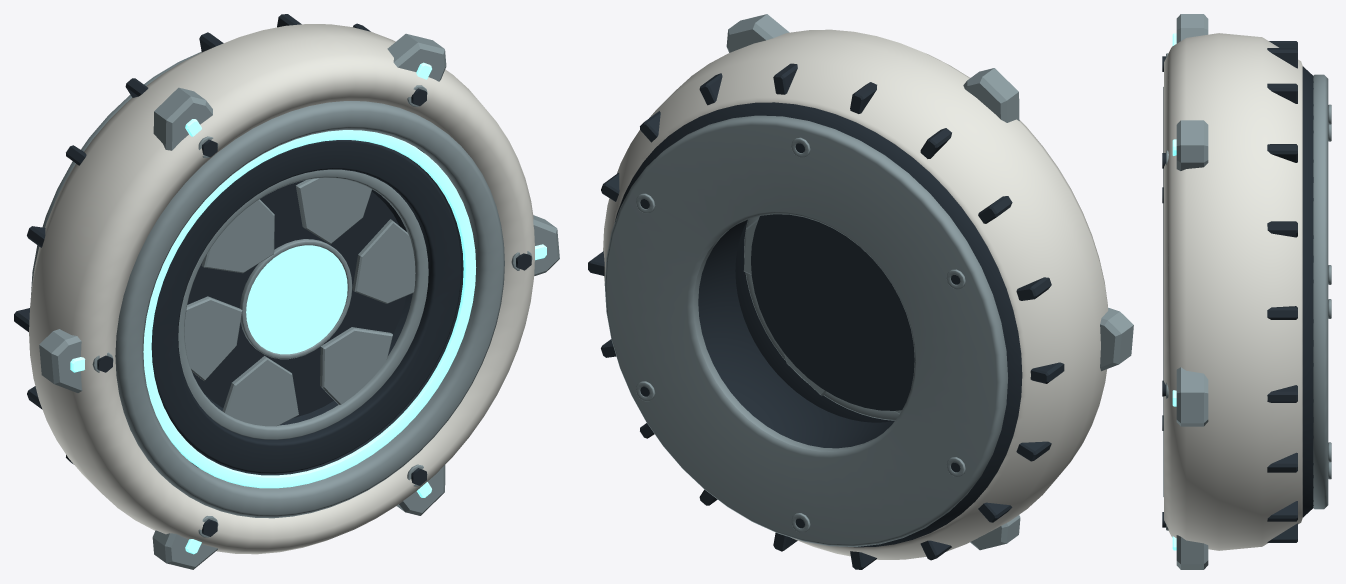
Rendered from hard-light-projector.glb.
3 views of the same model, side by side, from view 1: azimuth 30°, elevation 25°; view 2: azimuth 150°, elevation 25°; view 3: azimuth 270°, elevation 25° (orthographic). The views are drawn at different scales.
Parts seen in each view (by area): view 1: Hard-light projector • six-jaw collimator / alloy, Hard-light projector • six-jaw collimator / ceramic, Hard-light projector • six-jaw collimator / graphite, Hard-light projector • six-jaw collimator / signal; view 2: Hard-light projector • six-jaw collimator / alloy, Hard-light projector • six-jaw collimator / ceramic, Hard-light projector • six-jaw collimator / graphite; view 3: Hard-light projector • six-jaw collimator / ceramic, Hard-light projector • six-jaw collimator / alloy, Hard-light projector • six-jaw collimator / graphite, Hard-light projector • six-jaw collimator / signal.
Boxes of the visible parts, x1,y1,x2,y2 form: Hard-light projector • six-jaw collimator / alloy: [30, 33, 559, 569]; Hard-light projector • six-jaw collimator / ceramic: [29, 24, 534, 554]; Hard-light projector • six-jaw collimator / graphite: [14, 14, 531, 536]; Hard-light projector • six-jaw collimator / signal: [70, 62, 546, 554]; Hard-light projector • six-jaw collimator / alloy: [604, 14, 1133, 550]; Hard-light projector • six-jaw collimator / ceramic: [603, 29, 1108, 559]; Hard-light projector • six-jaw collimator / graphite: [588, 63, 1064, 569]; Hard-light projector • six-jaw collimator / ceramic: [1164, 33, 1302, 550]; Hard-light projector • six-jaw collimator / alloy: [1163, 14, 1331, 569]; Hard-light projector • six-jaw collimator / graphite: [1162, 41, 1313, 542]; Hard-light projector • six-jaw collimator / signal: [1172, 33, 1176, 550].
Size of the model in its own units: 2.64 by 2.47 by 0.805.
